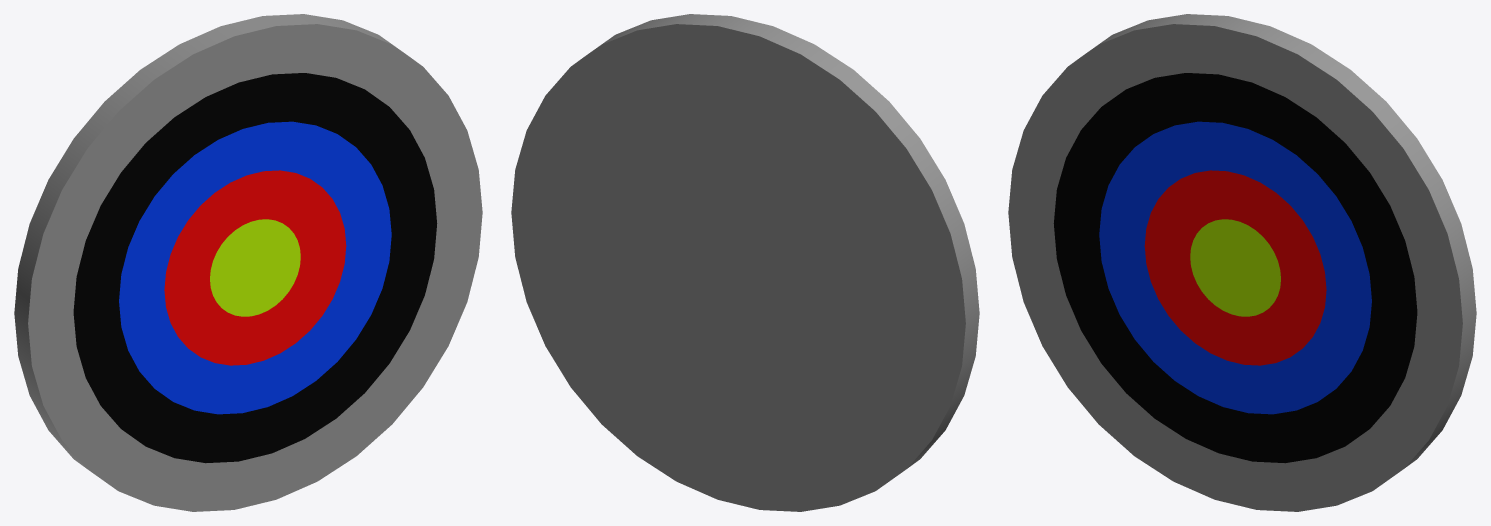
The picture shows the model from 3 angles, left to right: view 1: azimuth 30°, elevation 25°; view 2: azimuth 150°, elevation 25°; view 3: azimuth 330°, elevation 25°; orthographic projection.
Visible parts, largest first — view 1: Cylinder007; view 2: Cylinder007; view 3: Cylinder007.
Part boxes in pixels (x1,y1,x2,y2): Cylinder007: [14, 14, 482, 511]; Cylinder007: [511, 14, 979, 511]; Cylinder007: [1008, 14, 1476, 511].
Bounding box in the file's own units: 2 × 1.99 × 0.1046.
